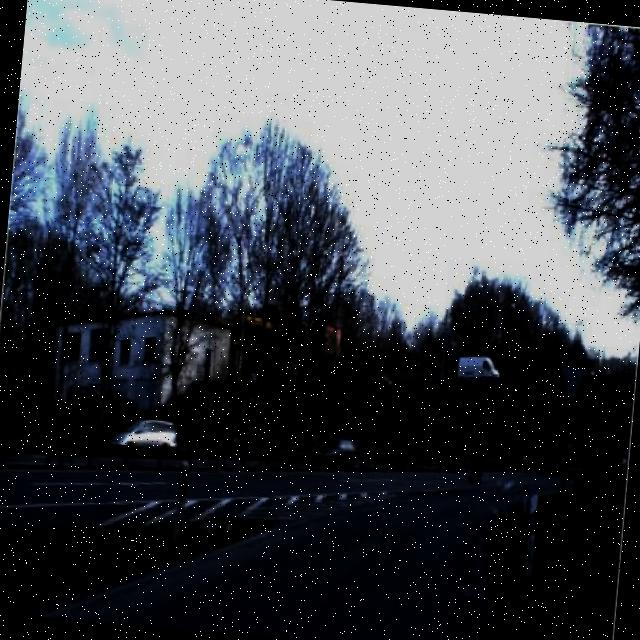Ustap pierwszenstwa: (546, 352, 596, 420)
